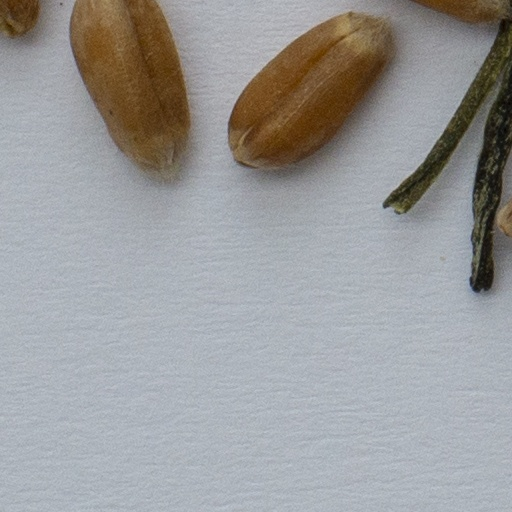Peel-poly: (392, 0, 511, 293)
